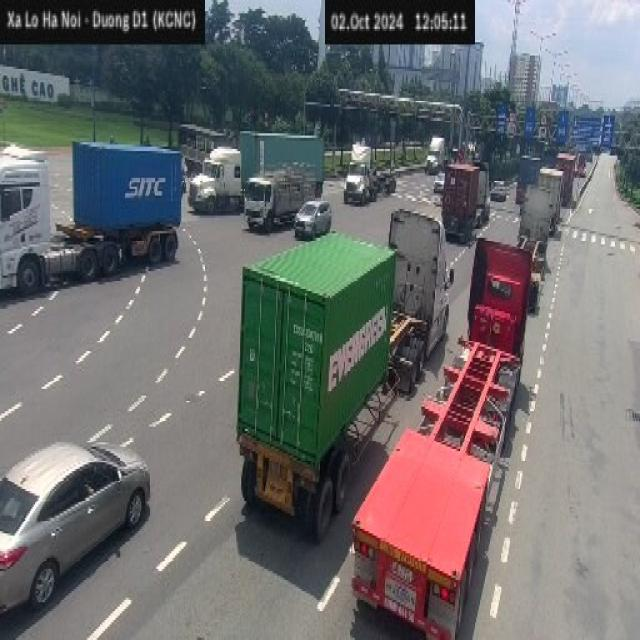car: (0, 438, 150, 616), (292, 198, 332, 238)
container-truck: (349, 215, 537, 640), (235, 200, 458, 545), (0, 137, 185, 296), (187, 128, 326, 213)
truck: (243, 163, 316, 234)
